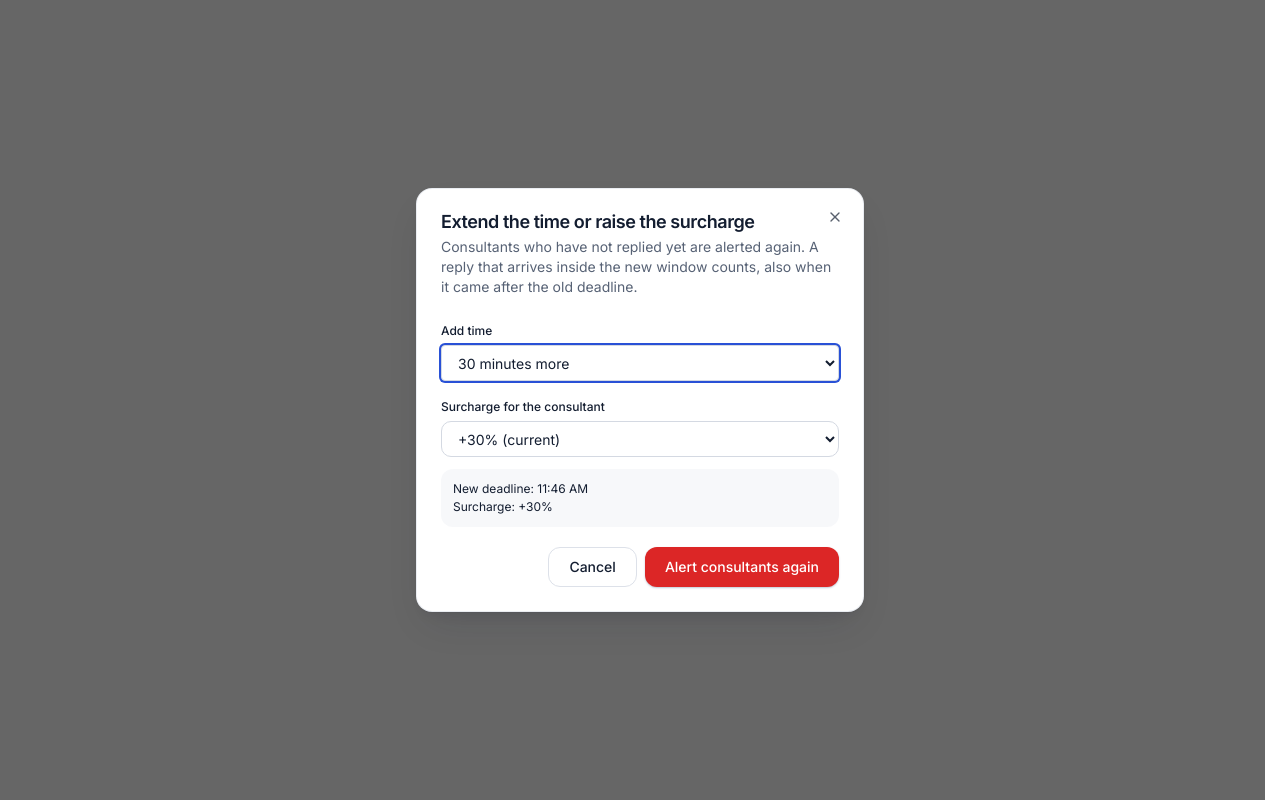
CriticalExtendDialog › does not send a change that changes nothing
Later steps or results of the test are not shown.
Select "No extra time" in the dropdown labelled "Add time": (640, 363) [441,345,839,381]
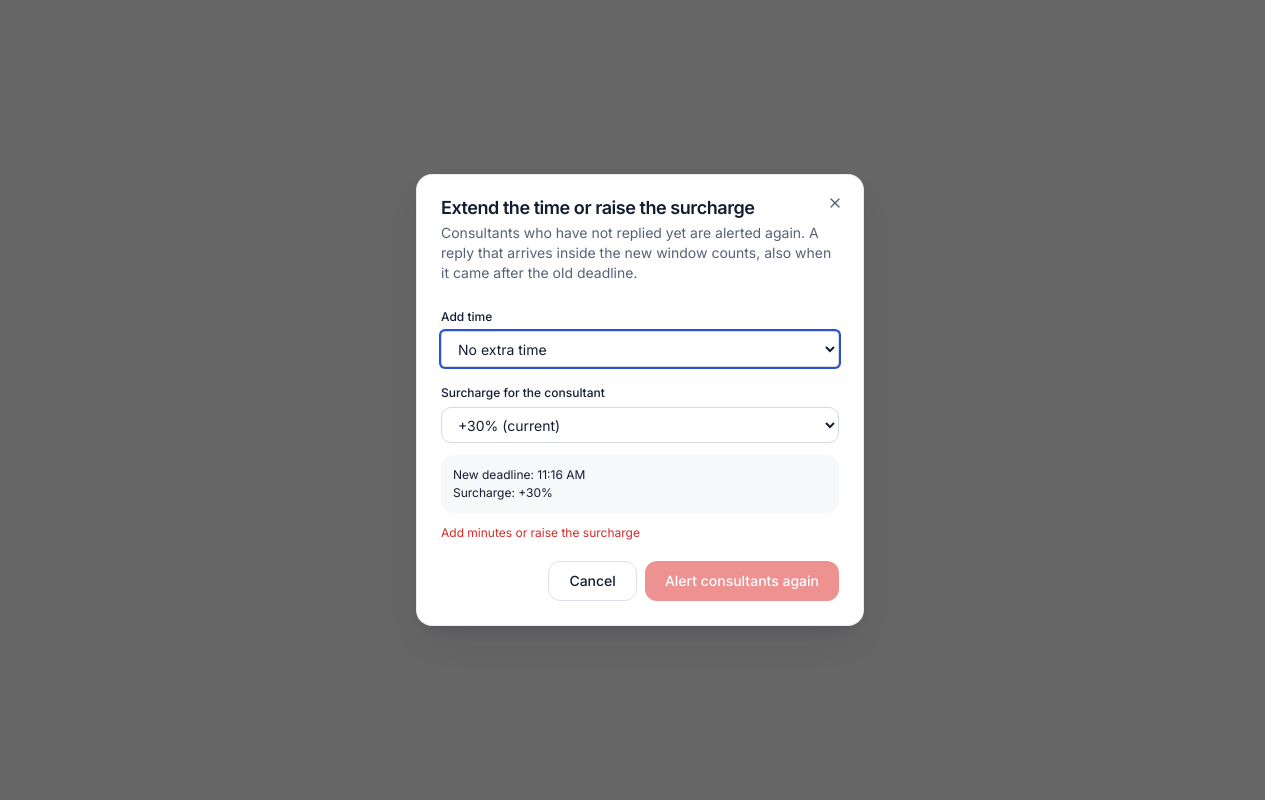
Expected: the text "Add minutes or raise the surcharge" is shown, [441,525,640,540]
